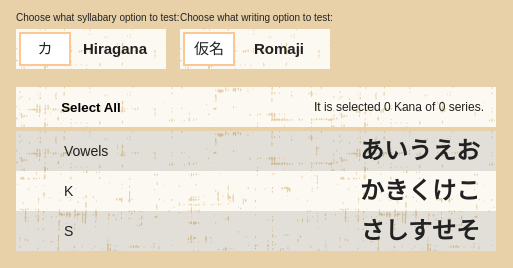
it: Setup page › selects every series with Select All and clears them again
The width and height of the screenshot is (513, 268).
Step 1. Click the button with class "selection-button" → (91, 107), box [16,87,166,127]
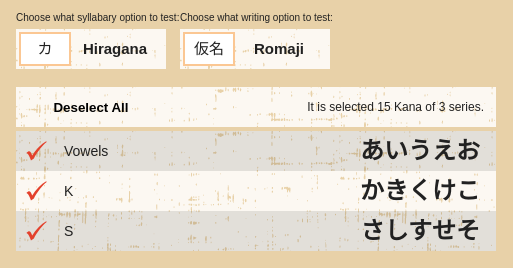
Expected: the number of list items with class "selected" is 3, [16,131,496,171]; [16,171,496,211]; [16,211,496,251]
Expected: the button with class "selection-button" reads "Deselect All"
Expected: the text with class "selection-stats" reads "It is selected 15 Kana of 3 series.", [307,100,484,114]
Step 2. Click the button with class "selection-button" → (91, 107), box [16,87,166,127]
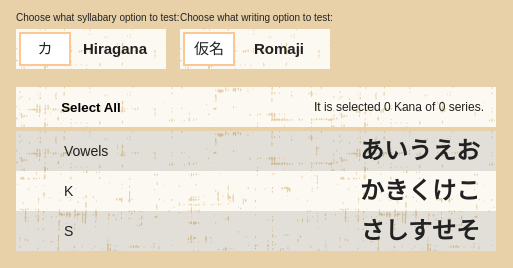
Expected: the button with class "selection-button" reads "Select All", [16,87,166,127]
